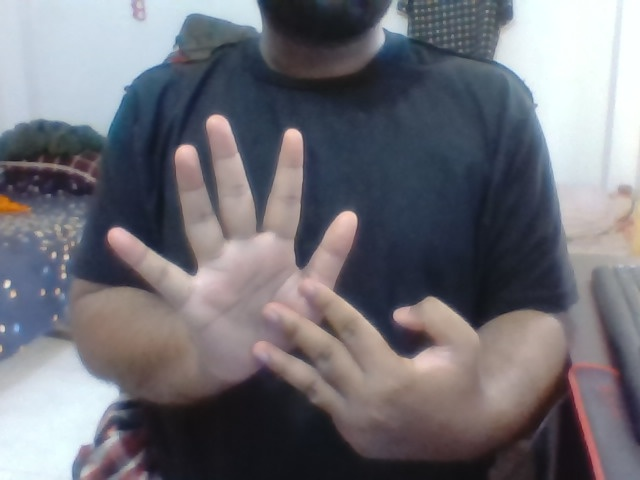M: (101, 110, 495, 472)
